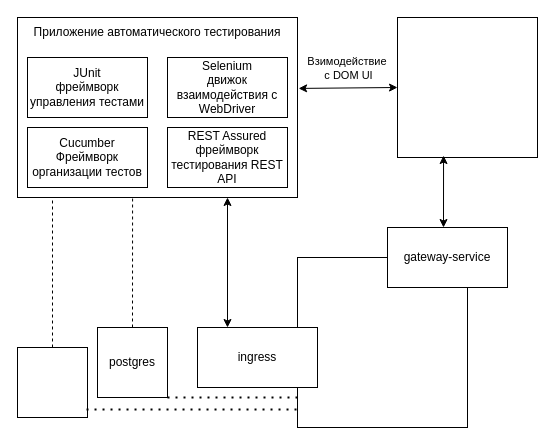
Image size: 555x445. Some labels were removed from this diagram. The box of each missing label's shape, as (x1, y1, x2, y2) in pixels:
gitlab service Selenium WebDriver: (396, 16, 538, 158)
k8s Сервисы MES: (296, 256, 468, 428)
redis: (16, 346, 88, 418)
